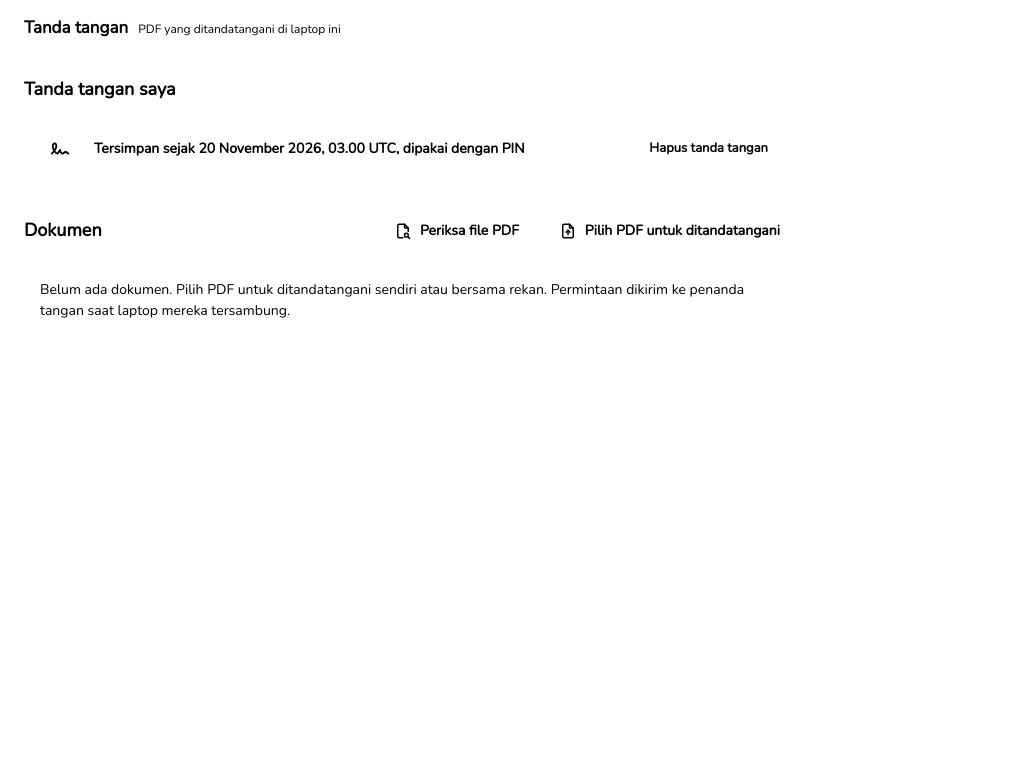
Test: SignScreen: tanda tangan saya › Lupa PIN: konfirmasi menjelaskan masa tunggu 24 jam, lalu hapus tanpa PIN
The width and height of the screenshot is (1024, 768).
Click the button "Hapus tanda tangan". click: [709, 148]
box: top-left (637, 132), bottom-right (780, 166)
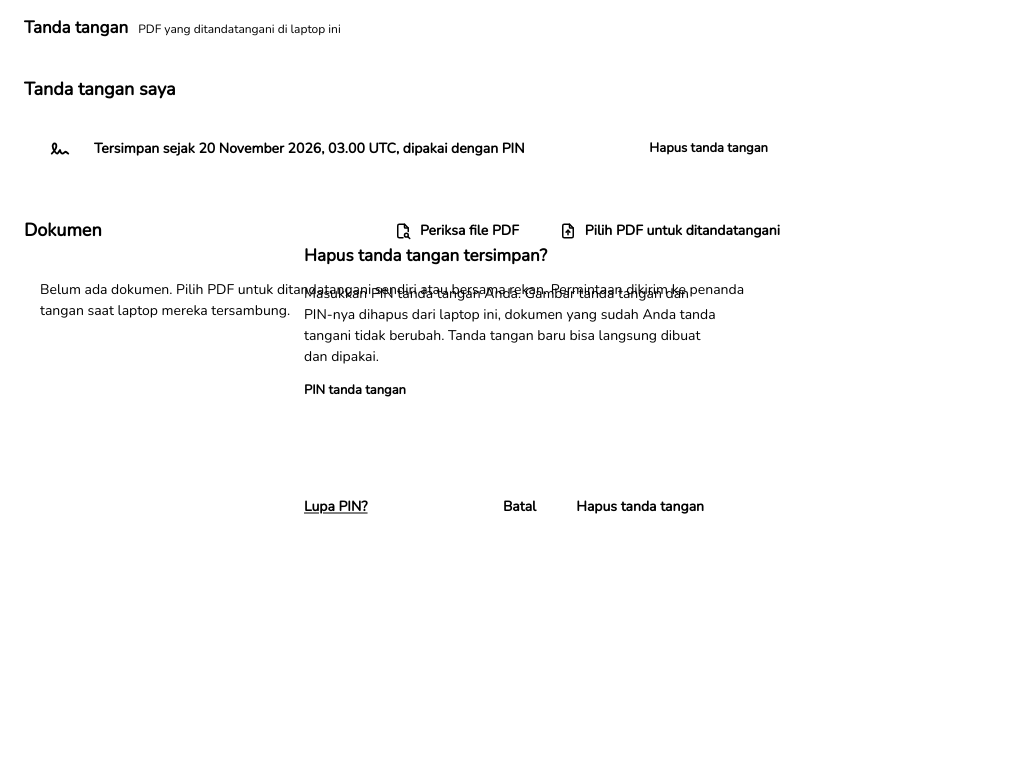
Click the button "Lupa PIN?". click: [336, 506]
box: top-left (304, 486), bottom-right (368, 526)
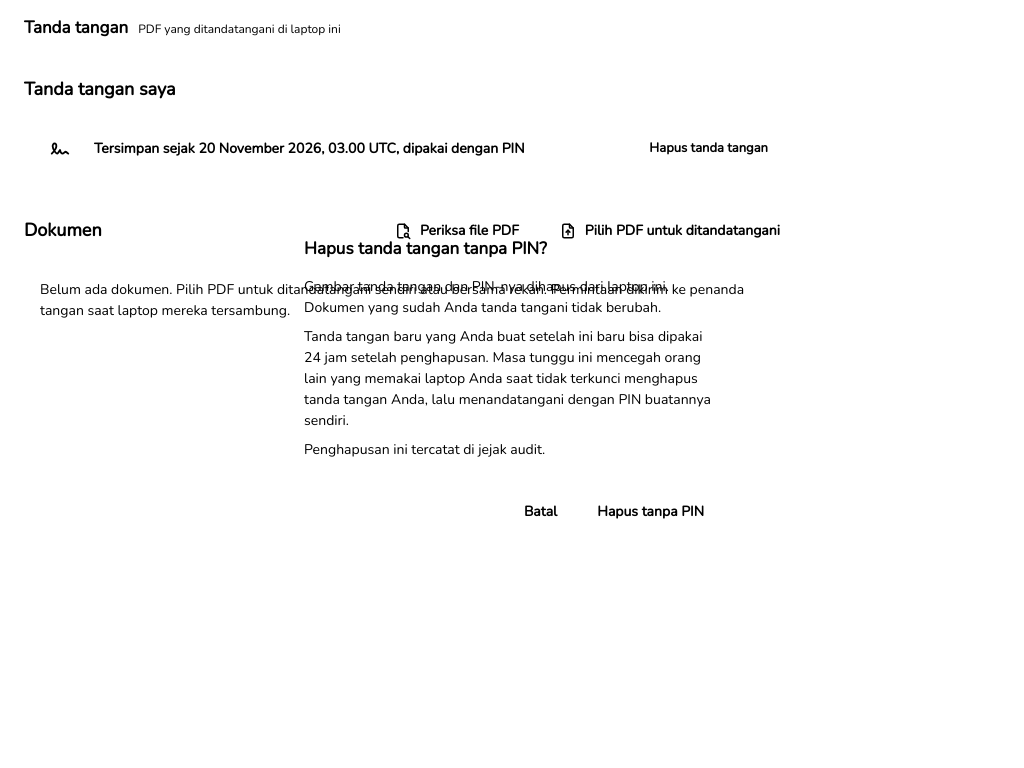
Expected: the heading "Hapus tanda tangan tersimpan?" is gone
Expected: the text "menandatangani dengan PIN buatannya sendiri" is shown, top-left (304, 327), bottom-right (711, 430)
Click the button "Hapus tanpa PIN". click: [651, 512]
box: top-left (581, 492), bottom-right (720, 532)
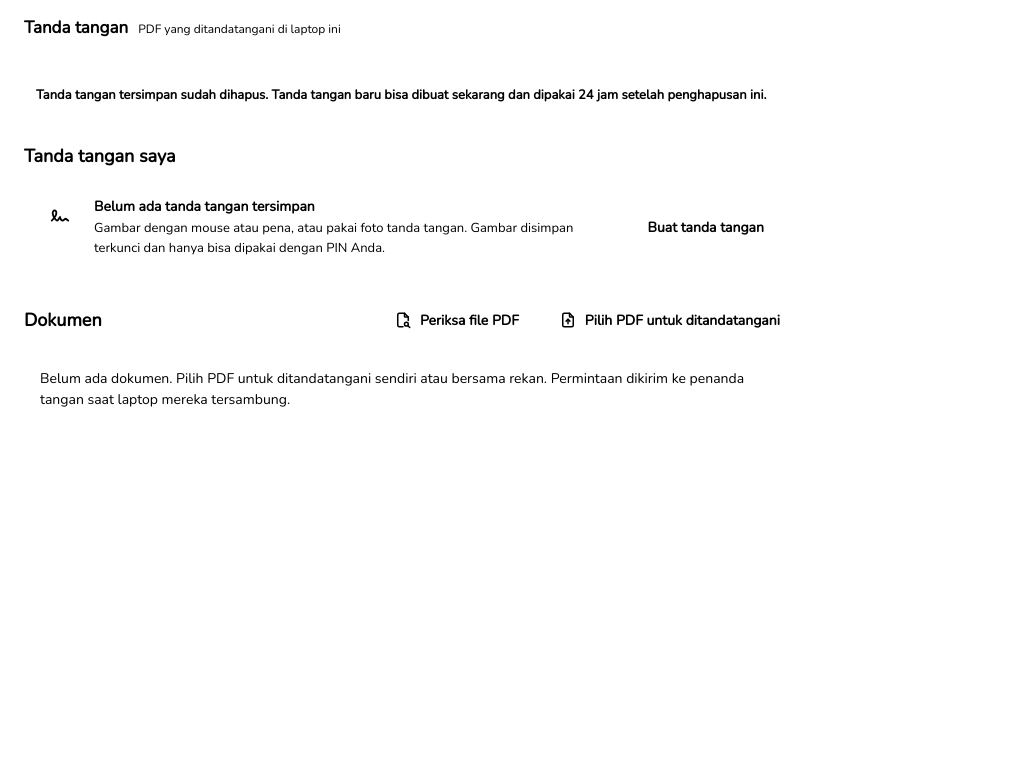
Expected: the text "dipakai 24 jam setelah penghapusan ini" is shown, top-left (36, 86), bottom-right (766, 104)
Expected: the dialog is gone
